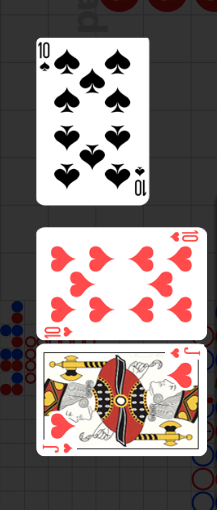10H: (168, 230, 199, 244)
10S: (39, 41, 53, 74)
JH: (42, 442, 74, 455)
